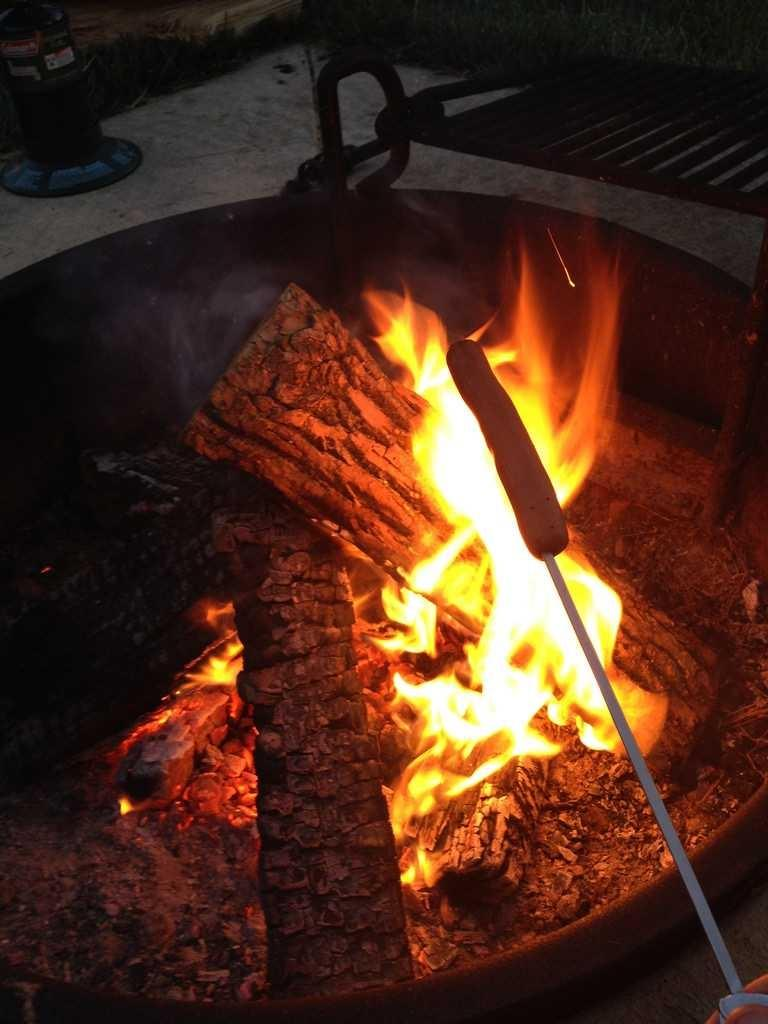fire: (428, 568, 550, 740), (430, 408, 475, 520)
